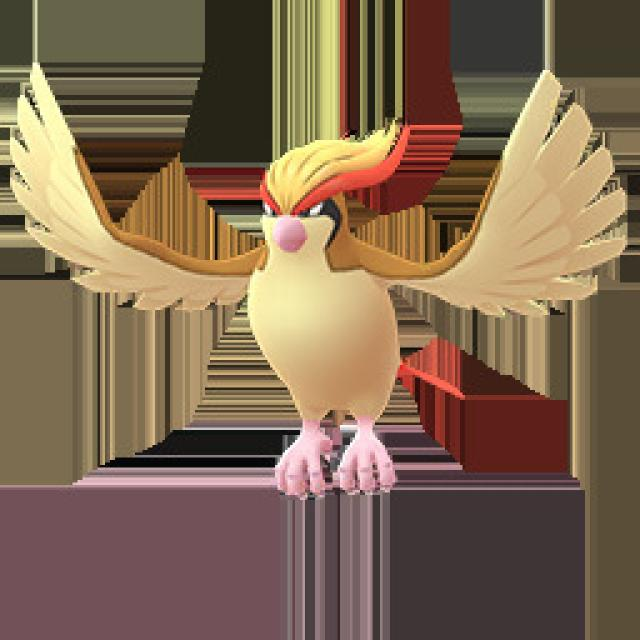Pidgeot: (110, 132, 520, 489)
